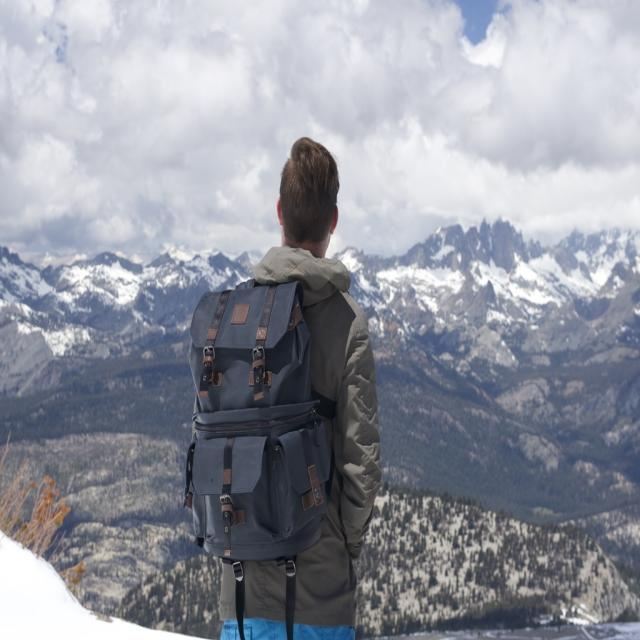backpack: (177, 282, 324, 555)
